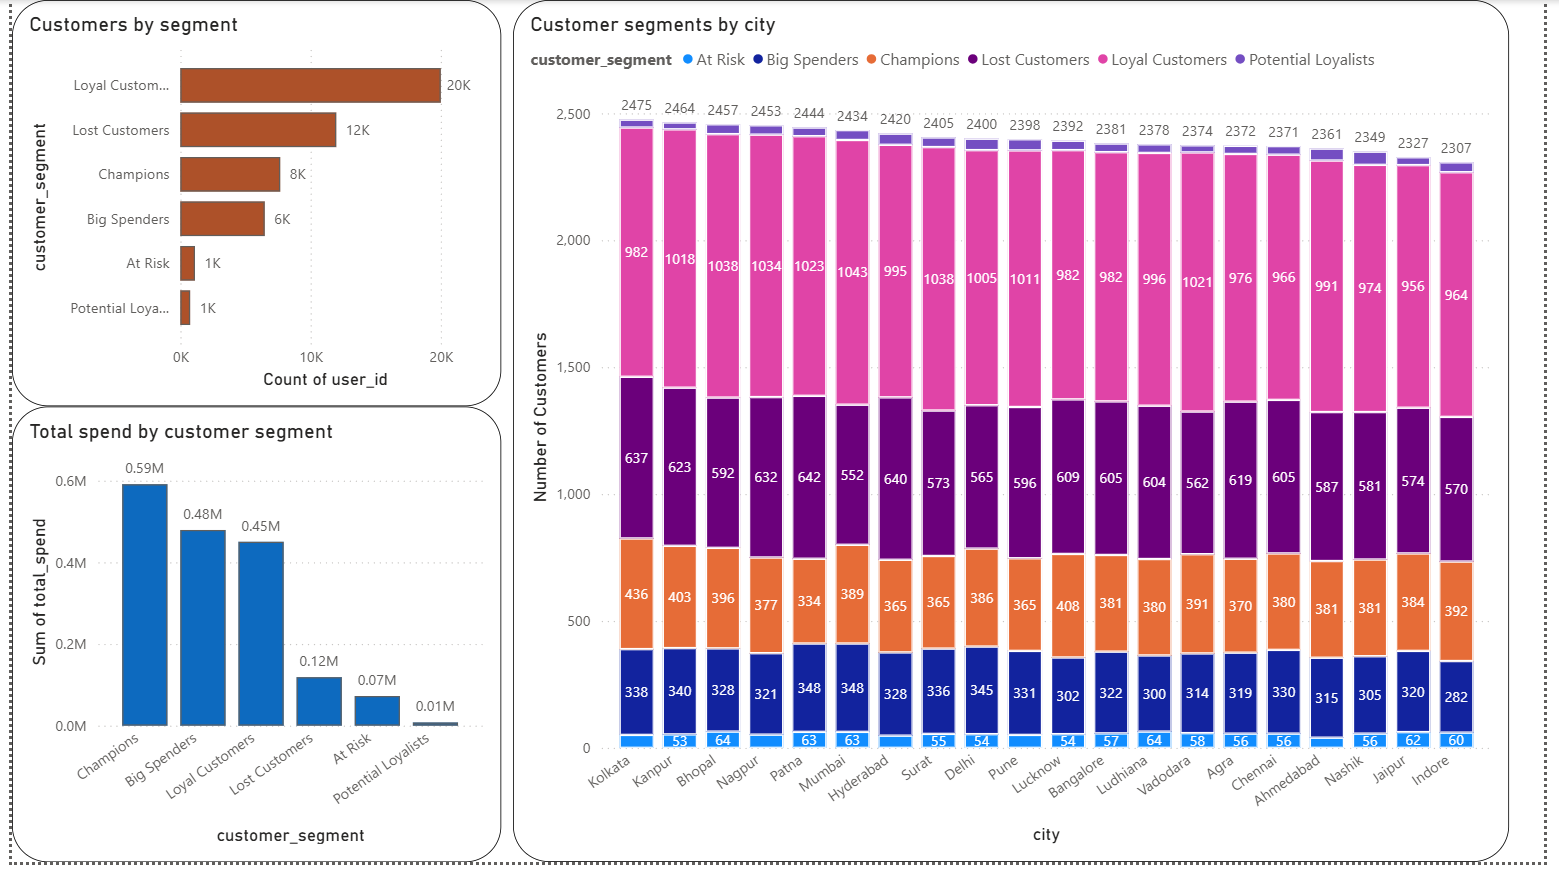

This screenshot's page, from the dashboard's own definition file:
{"tool":"powerbi","page":{"name":"Customer Segments","canvas":[1280,720],"ordinal":3},"visuals":[{"type":"clusteredBarChart","title":"Customers by segment","fields":{"Category":["powerbi_customer_segments.customer_segment"],"Y":["CountNonNull(powerbi_customer_segments.user_id)"]},"box":[0,0,408.5,339.5],"z":0},{"type":"clusteredColumnChart","title":"Total spend by customer segment","fields":{"Category":["powerbi_customer_segments.customer_segment"],"Y":["Sum(powerbi_customer_segments.total_spend)"]},"box":[0,339.5,408.5,380.9],"z":1},{"type":"columnChart","title":"Customer segments by city","fields":{"Category":["powerbi_customer_segments.city"],"Series":["powerbi_customer_segments.customer_segment"],"Y":["CountNonNull(powerbi_customer_segments.user_id)"]},"box":[418.9,0,832.2,720],"z":2}]}

Visuals, with their boxes in screenshot pixels (x1, y1, x2, y2), scaled from the page's 1280x720 canvas onto the 1559x869 screenshot:
"Customers by segment" clusteredBarChart: locate(0, 0, 498, 410)
"Total spend by customer segment" clusteredColumnChart: locate(0, 410, 498, 868)
"Customer segments by city" columnChart: locate(510, 0, 1524, 868)
